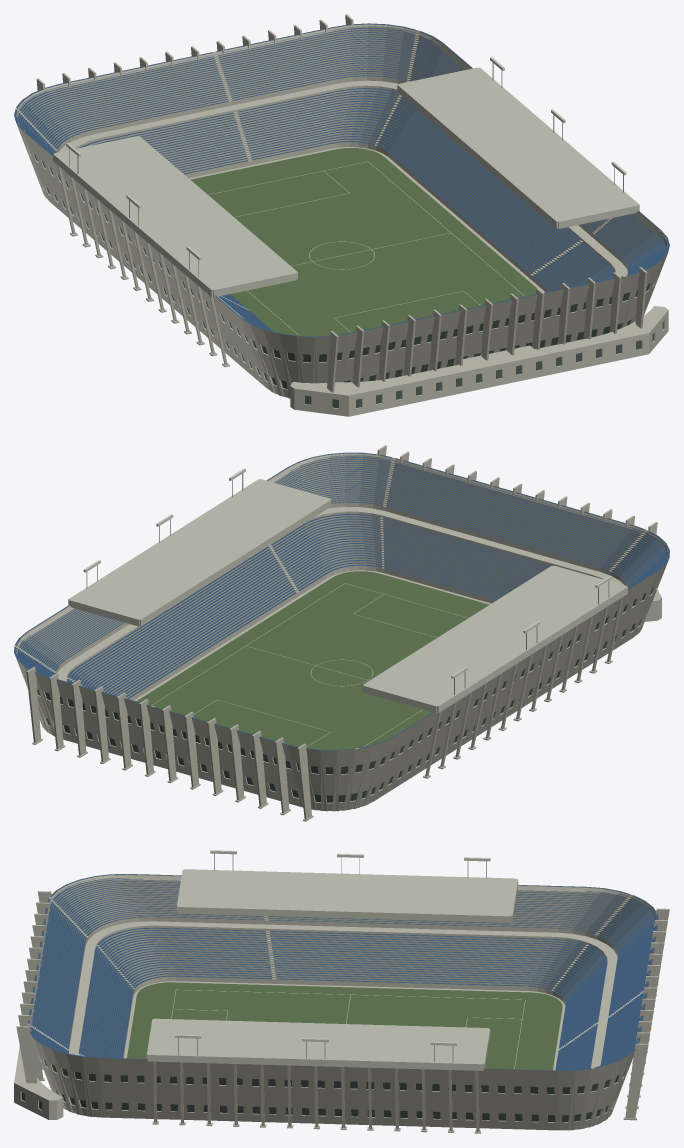
File: la-rosaleda-near.glb
3 views of the same model, one above another, from view 1: azimuth 30°, elevation 25°; view 2: azimuth 150°, elevation 25°; view 3: azimuth 270°, elevation 25° (orthographic). The views are drawn at different scales.
Parts seen in each view (by area): view 1: la-rosaleda-0-concrete, la-rosaleda-0-pitch, la-rosaleda-0-blue, la-rosaleda-0-roof, la-rosaleda-0-glass, la-rosaleda-0-paint; view 2: la-rosaleda-0-concrete, la-rosaleda-0-blue, la-rosaleda-0-pitch, la-rosaleda-0-roof, la-rosaleda-0-glass, la-rosaleda-0-paint; view 3: la-rosaleda-0-concrete, la-rosaleda-0-blue, la-rosaleda-0-roof, la-rosaleda-0-pitch, la-rosaleda-0-glass, la-rosaleda-0-light, la-rosaleda-0-paint.
Boxes of the visible parts, x1,y1,x2,y2 form: la-rosaleda-0-concrete: (15, 14, 668, 416); la-rosaleda-0-pitch: (190, 148, 536, 336); la-rosaleda-0-blue: (14, 23, 669, 337); la-rosaleda-0-roof: (53, 67, 639, 297); la-rosaleda-0-glass: (34, 154, 663, 408); la-rosaleda-0-paint: (208, 161, 525, 335); la-rosaleda-0-concrete: (14, 445, 668, 821); la-rosaleda-0-blue: (14, 452, 669, 750); la-rosaleda-0-pitch: (136, 571, 489, 749); la-rosaleda-0-roof: (68, 479, 627, 712); la-rosaleda-0-glass: (37, 587, 653, 802); la-rosaleda-0-paint: (151, 583, 468, 746); la-rosaleda-0-concrete: (14, 874, 669, 1133); la-rosaleda-0-blue: (27, 874, 658, 1070); la-rosaleda-0-roof: (146, 869, 518, 1070); la-rosaleda-0-pitch: (127, 982, 562, 1070); la-rosaleda-0-glass: (21, 1059, 625, 1122); la-rosaleda-0-light: (174, 850, 490, 1045); la-rosaleda-0-paint: (171, 989, 525, 1068).
Size of the model in its own units: 140 by 31.8 by 197.
